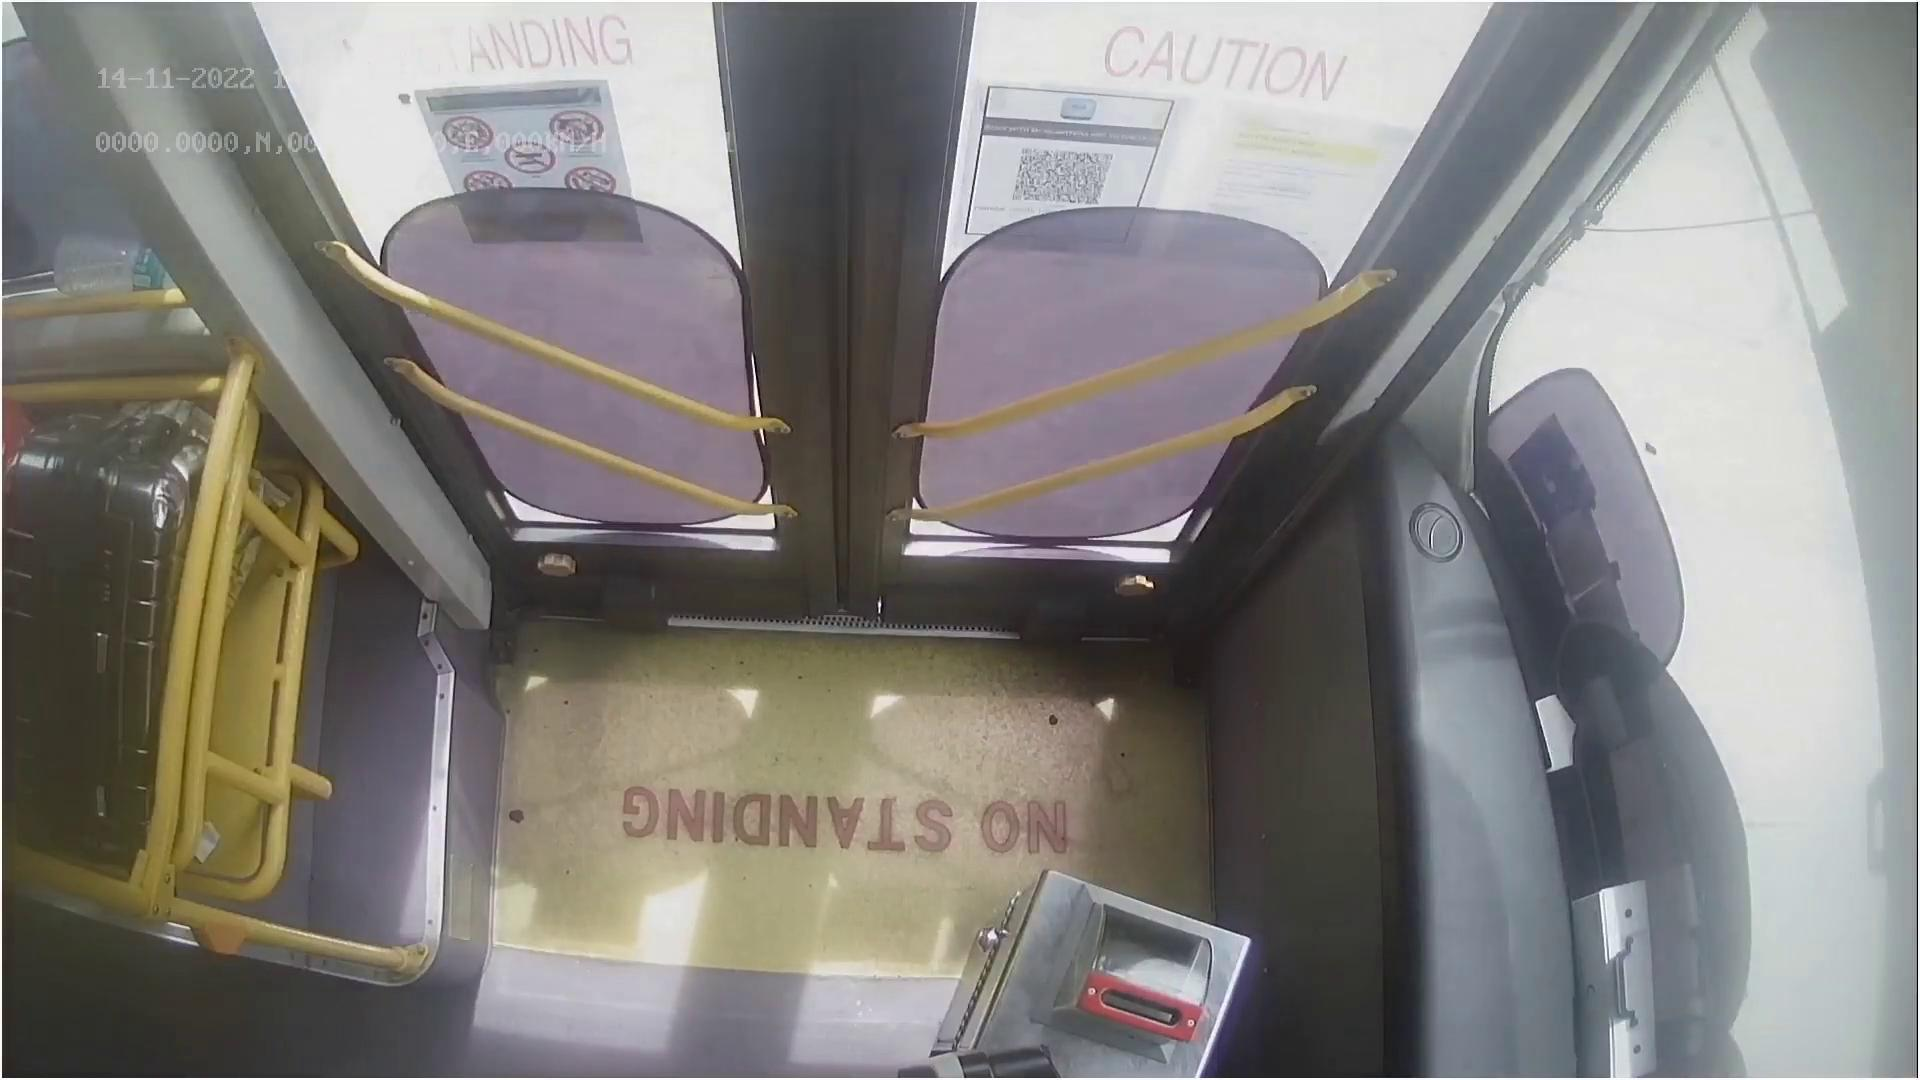close: (289, 0, 1440, 162)
